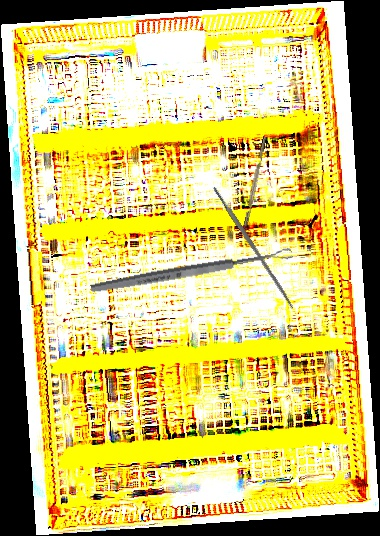Chopper: (239, 136, 272, 242)
Scalpel Handle: (210, 183, 297, 311)
Surgical Spoon: (89, 246, 294, 296)
